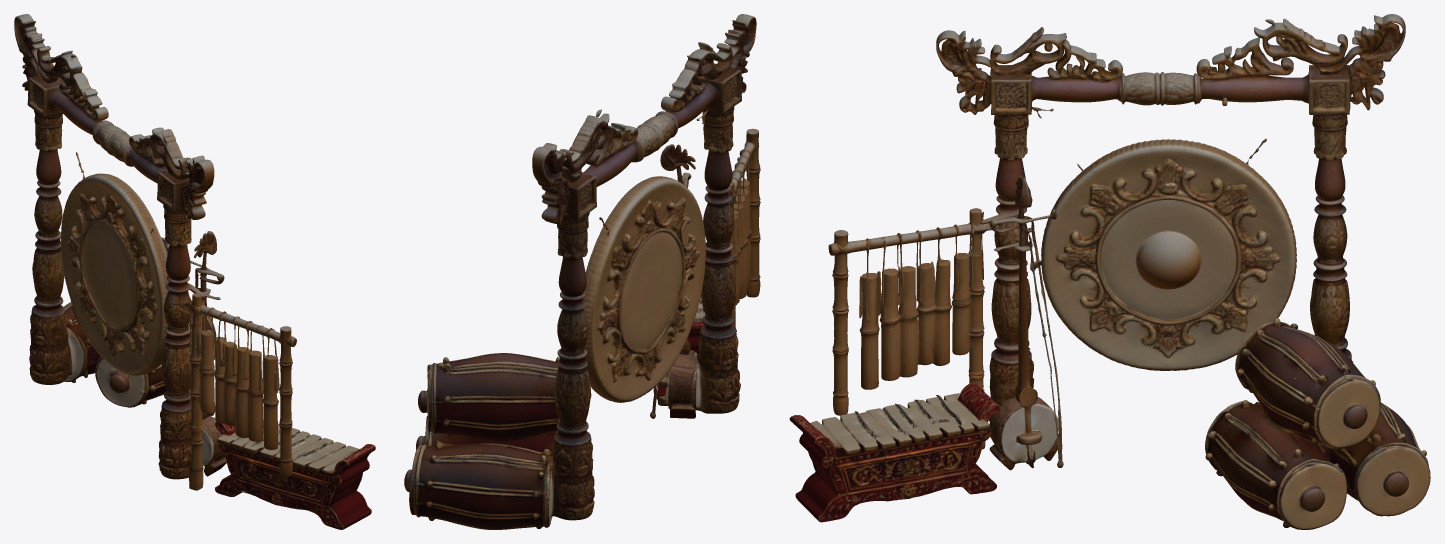
Rendered from AlatMusikTradisional.glb.
3 renders of one model, left to right at view 1: azimuth 30°, elevation 25°; view 2: azimuth 150°, elevation 25°; view 3: azimuth 270°, elevation 25°, orthographic. The views are drawn at different scales.
Parts seen in each view (by area): view 1: tripo_node_ed677ce9-c4b6-4e43-b18f-2316a81251e5; view 2: tripo_node_ed677ce9-c4b6-4e43-b18f-2316a81251e5; view 3: tripo_node_ed677ce9-c4b6-4e43-b18f-2316a81251e5.
Part boxes in pixels (box(x1,y1,x2,y2)): tripo_node_ed677ce9-c4b6-4e43-b18f-2316a81251e5: box(14, 14, 375, 529); tripo_node_ed677ce9-c4b6-4e43-b18f-2316a81251e5: box(404, 14, 760, 529); tripo_node_ed677ce9-c4b6-4e43-b18f-2316a81251e5: box(789, 14, 1430, 529).
Size of the model in its own units: 0.3656 by 0.7584 by 0.9977.
1 material, 1 textured.
